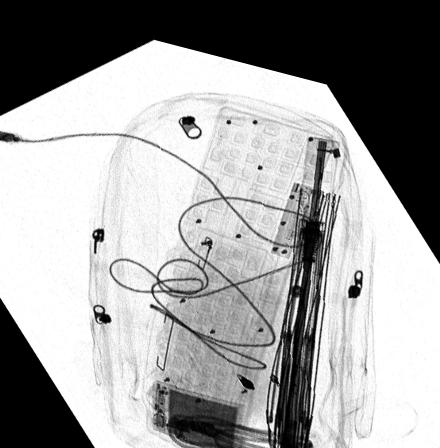Powerbank: (144, 371, 243, 442)
